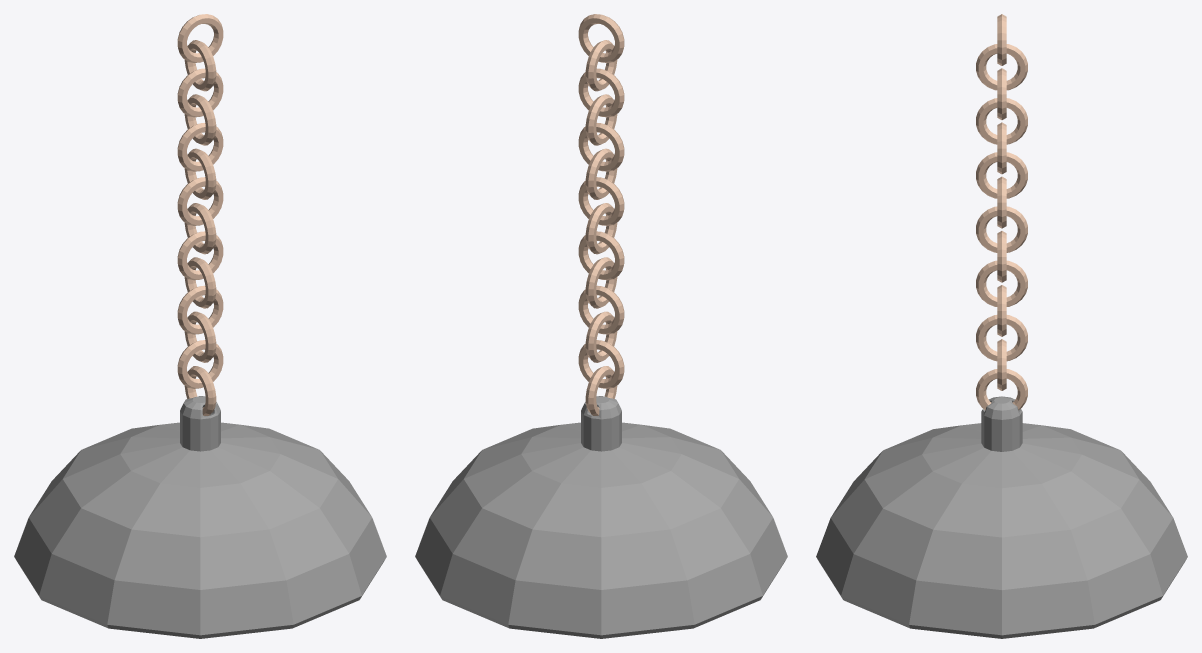
Rendered from LampHolder.fbx.
The picture shows the model from 3 angles, left to right: view 1: azimuth 30°, elevation 25°; view 2: azimuth 150°, elevation 25°; view 3: azimuth 270°, elevation 25°; orthographic projection.
Parts seen in each view (by area): view 1: Sphere, Torus.013, Torus.003, Torus.011, Torus.005, Torus.009, Torus.007, Torus.001, Torus.002, Torus.008, Torus.006, Torus.012 (+3 smaller); view 2: Sphere, Torus.013, Torus.003, Torus.011, Torus.005, Torus.009, Torus.007, Torus.001, Torus.002, Torus.008, Torus.006, Torus.012 (+3 smaller); view 3: Sphere, Torus.006, Torus.008, Torus.010, Torus.012, Torus.004, Torus.002, Torus.
Part boxes in pixels (x1,y1,x2,y2): Sphere: [14, 396, 386, 638]; Torus.013: [177, 14, 223, 62]; Torus.003: [177, 285, 223, 334]; Torus.011: [177, 68, 223, 117]; Torus.005: [177, 231, 223, 280]; Torus.009: [177, 123, 223, 171]; Torus.007: [177, 177, 223, 225]; Torus.001: [177, 340, 223, 388]; Torus.002: [184, 311, 216, 362]; Torus.008: [184, 148, 216, 199]; Torus.006: [184, 203, 216, 254]; Torus.012: [184, 40, 216, 91]; Sphere: [415, 396, 787, 638]; Torus.013: [578, 14, 624, 62]; Torus.003: [578, 285, 624, 334]; Torus.011: [578, 68, 624, 117]; Torus.005: [578, 231, 624, 280]; Torus.009: [578, 123, 624, 171]; Torus.007: [578, 177, 624, 225]; Torus.001: [578, 340, 624, 388]; Torus.002: [585, 311, 617, 362]; Torus.008: [585, 148, 617, 199]; Torus.006: [585, 203, 617, 254]; Torus.012: [585, 40, 617, 91]; Sphere: [816, 396, 1187, 638]; Torus.006: [976, 206, 1027, 252]; Torus.008: [976, 152, 1027, 198]; Torus.010: [976, 98, 1027, 144]; Torus.012: [976, 44, 1027, 90]; Torus.004: [976, 260, 1027, 306]; Torus.002: [976, 315, 1027, 361]; Torus: [976, 369, 1027, 410].
Bounding box in the file's own units: 212 × 343 × 212.
